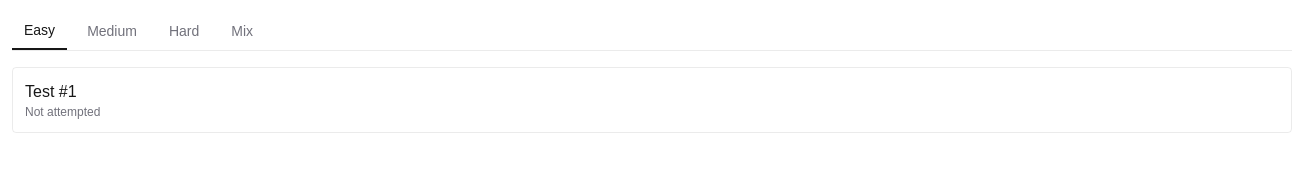
Scenario: PracticeTestsList › switches bands and shows attempted status + last score
This screenshot has width=1292, height=172.
Click the tab "Medium".
click(112, 31)  # box [75,12,149,50]
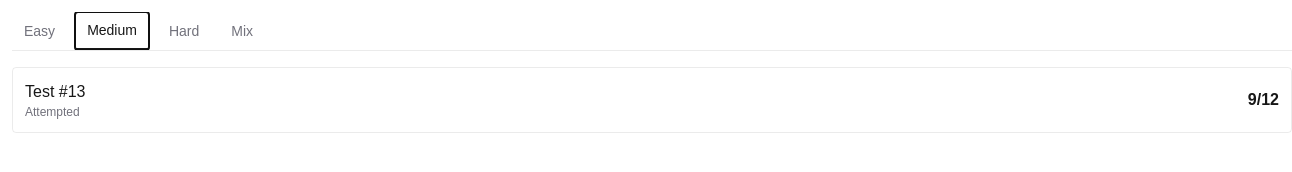
Expected: the text "Attempted" is shown, [25,104,86,120]
Now the text "Test #13" is shown, box [25,80,86,104]
Now the text "9/12" is shown, box [1248,88,1279,112]
